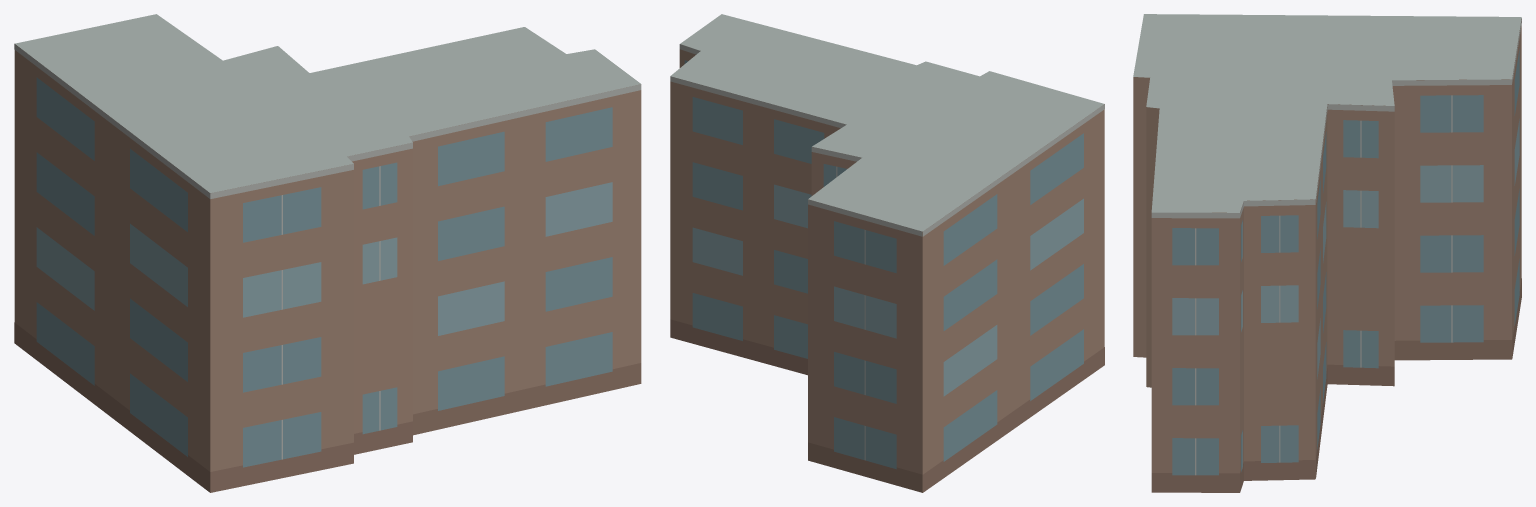
Rendered from survey-upis-33002392.glb.
The picture shows the model from 3 angles, left to right: view 1: azimuth 30°, elevation 25°; view 2: azimuth 150°, elevation 25°; view 3: azimuth 270°, elevation 25°; orthographic projection. The views are drawn at different scales.
Parts seen in each view (by area): view 1: survey-upis-33002392.tmp; view 2: survey-upis-33002392.tmp; view 3: survey-upis-33002392.tmp.
Part boxes in pixels (x1=…): survey-upis-33002392.tmp: x1=14, y1=14, x2=641, y2=492; survey-upis-33002392.tmp: x1=670, y1=14, x2=1104, y2=492; survey-upis-33002392.tmp: x1=1133, y1=14, x2=1521, y2=492.
Bounding box in the file's own units: 18.59 × 12.2 × 15.36.
